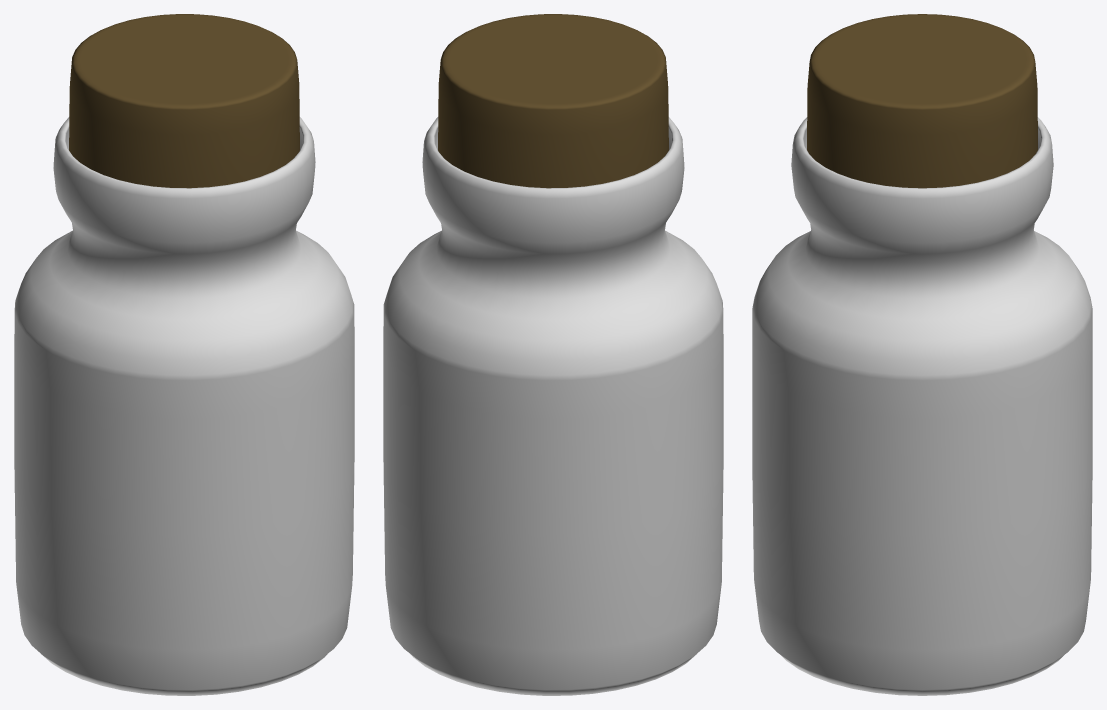
File: Bottle_1.fbx
3 renders of one model, left to right at view 1: azimuth 30°, elevation 25°; view 2: azimuth 150°, elevation 25°; view 3: azimuth 270°, elevation 25°, orthographic.
Parts seen in each view (by area): view 1: pCylinder1, pasted__pCylinder2; view 2: pCylinder1, pasted__pCylinder2; view 3: pCylinder1, pasted__pCylinder2.
Boxes of the visible parts, <box> form: pCylinder1: <box>14,117,354,695</box>; pasted__pCylinder2: <box>69,14,299,188</box>; pCylinder1: <box>383,117,723,695</box>; pasted__pCylinder2: <box>438,14,668,188</box>; pCylinder1: <box>752,117,1092,695</box>; pasted__pCylinder2: <box>807,14,1037,188</box>.
Bounding box in the file's own units: 1.97 × 3.69 × 1.97.
